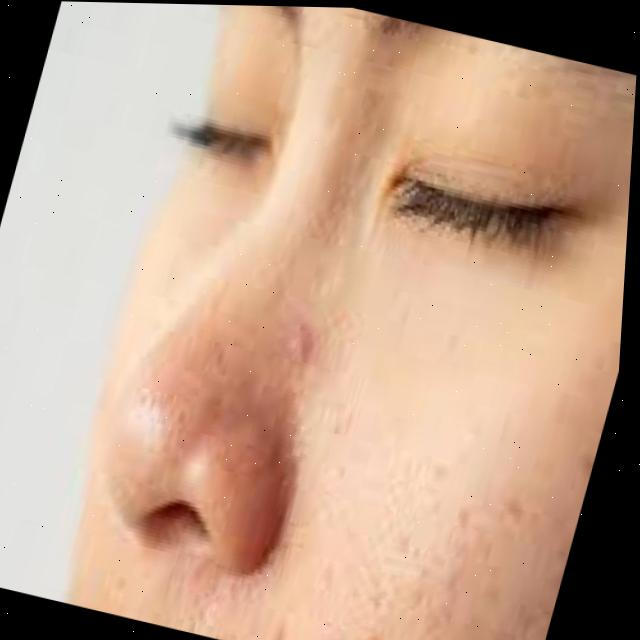Acne: (201, 315, 616, 640)
